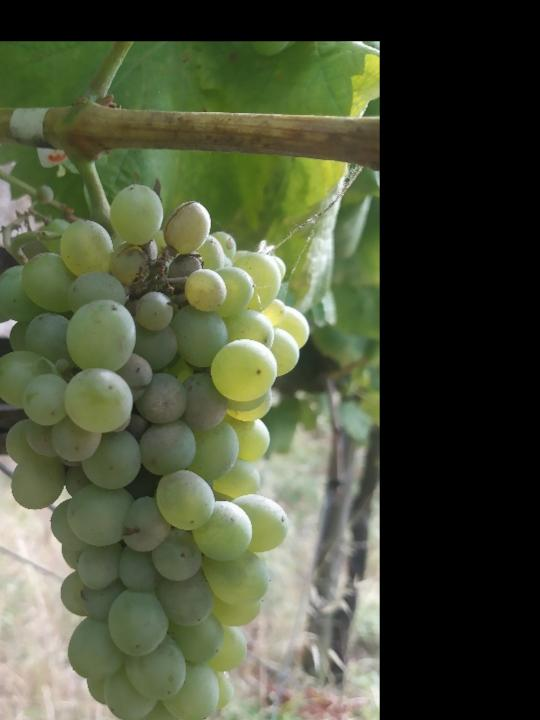grape: (0, 177, 320, 720)
